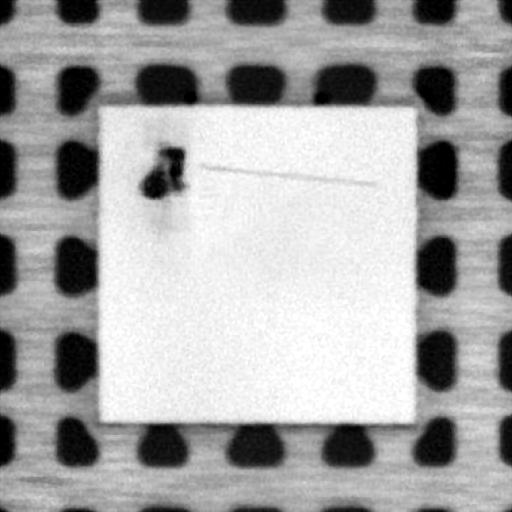DIE_INK: (134, 142, 190, 202)
